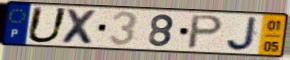3: (109, 10, 141, 48)
8: (147, 13, 175, 49)
J: (225, 16, 260, 53)
P: (185, 14, 226, 51)
U: (24, 5, 71, 45)
X: (60, 7, 100, 47)
